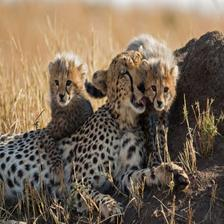Cheetah: (0, 49, 197, 221), (85, 31, 182, 162), (35, 49, 109, 185)
